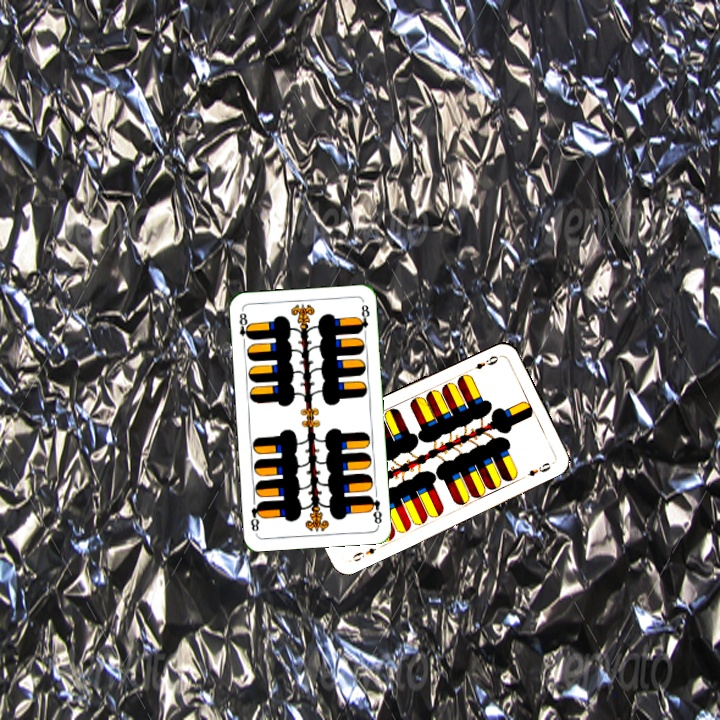E8: (365, 491, 385, 527), (235, 309, 253, 347)
E9: (466, 352, 501, 374), (346, 544, 379, 564)
